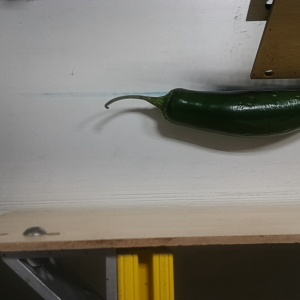Cut Point: (153, 86, 188, 124)
